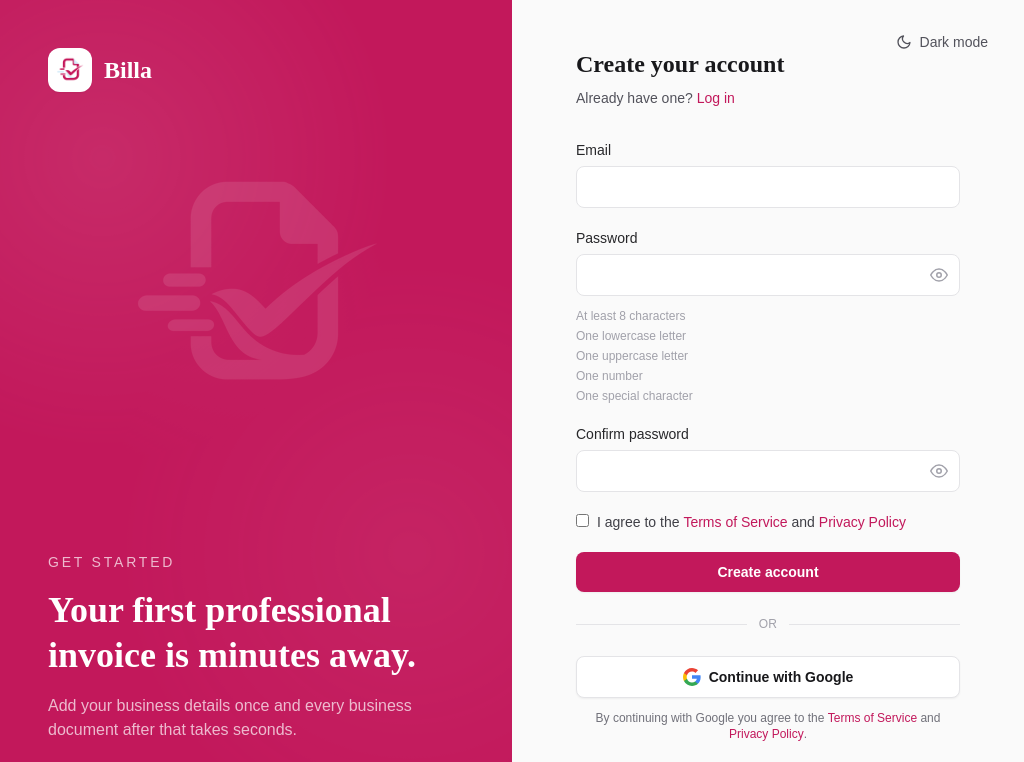
Test: Register › tells the caller to wait instead of the generic error, when rate-limited
Step 1. Type "owner@example.com" into the field labelled "Email" → (768, 187), box [576,166,960,208]
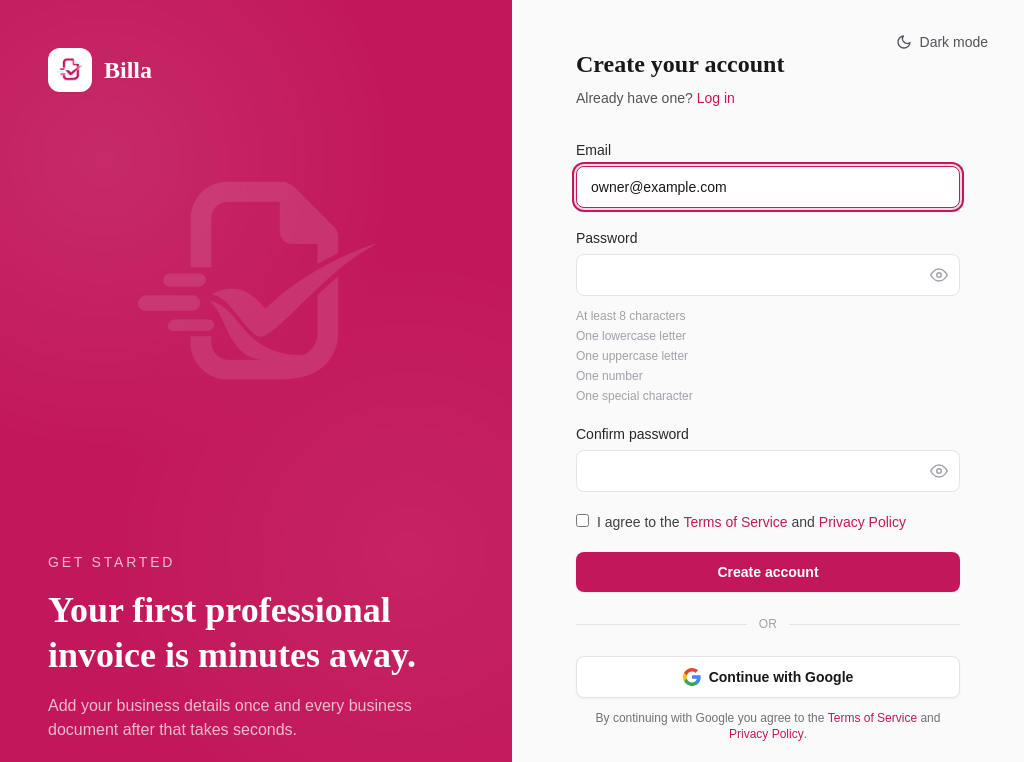
Step 2. Type "Supersecret1!" into the password field labelled "Password" → (768, 275), box [576,254,960,296]
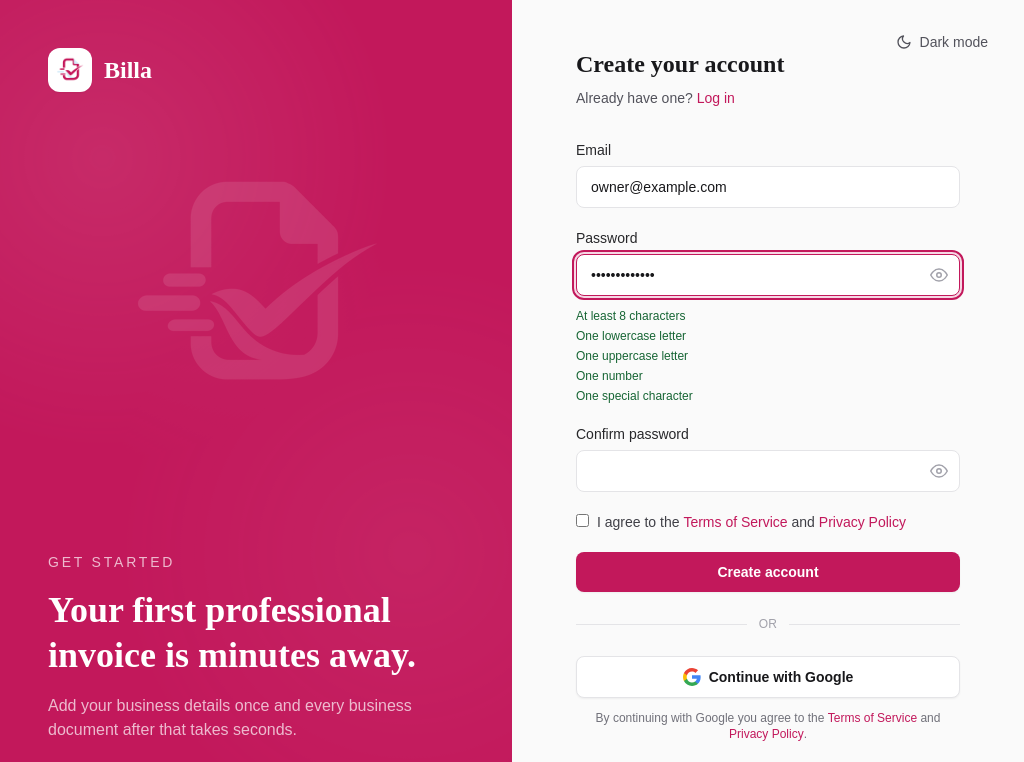
Step 3. Type "Supersecret1!" into the password field labelled "Confirm password" → (768, 471), box [576,450,960,492]
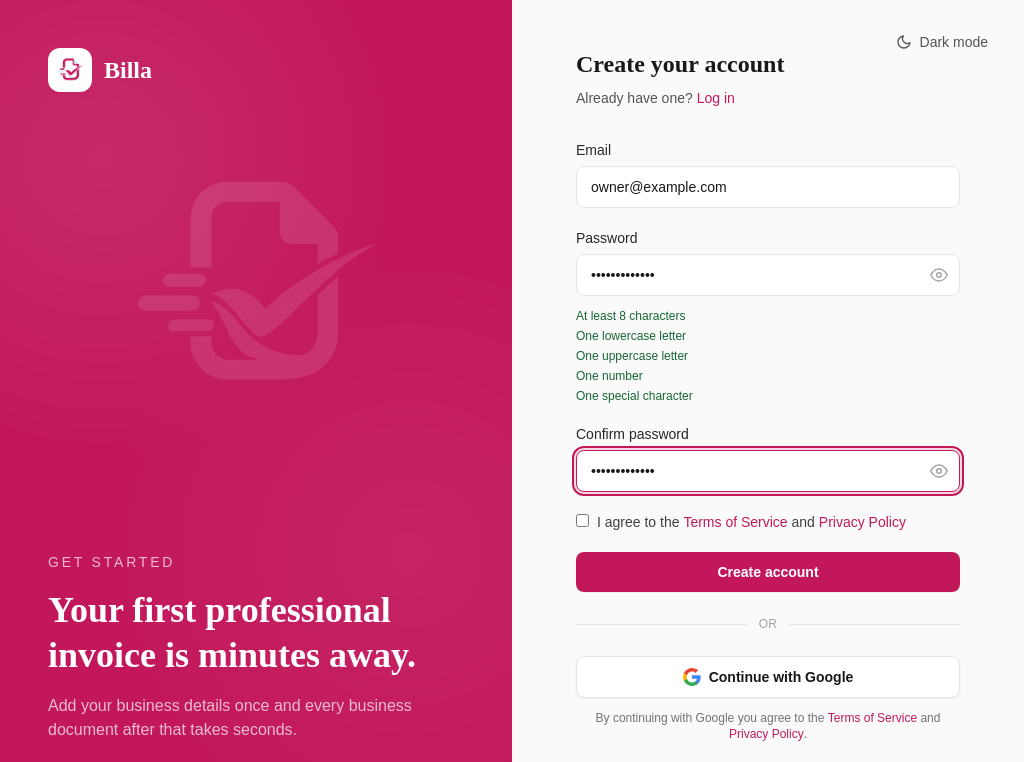
Step 4. Click the checkbox labelled "I agree to the Terms of Service and Privacy Policy" → (582, 520), box [576,514,589,527]
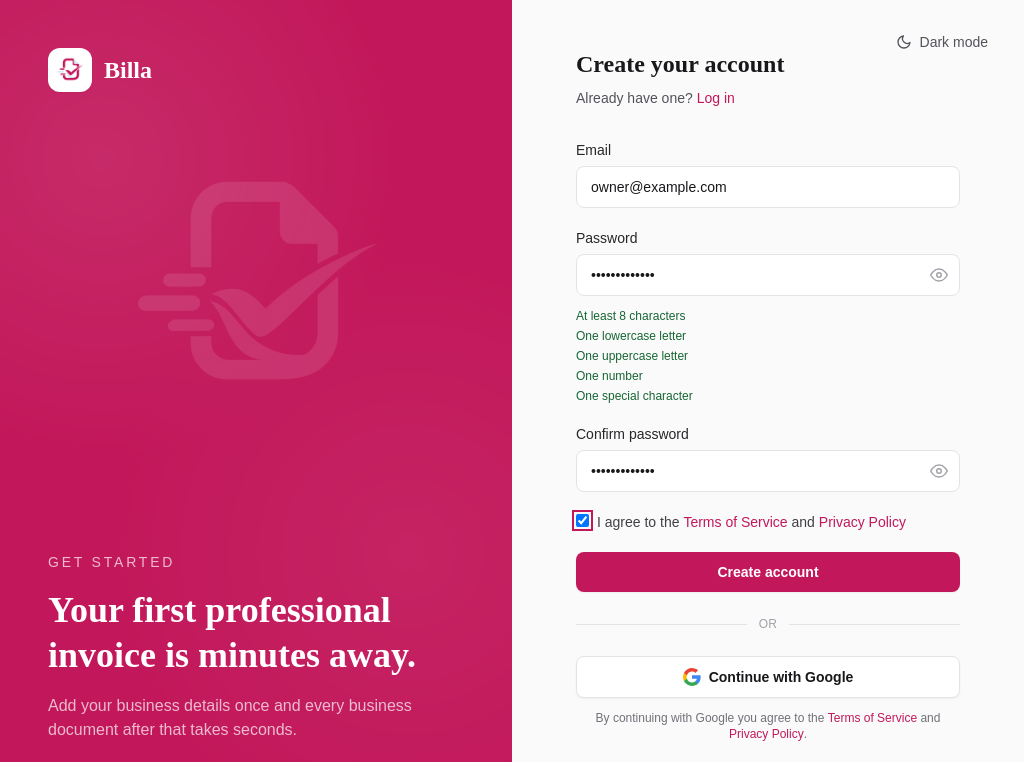
Step 5. Click the button "Create account" → (768, 572), box [576,552,960,592]
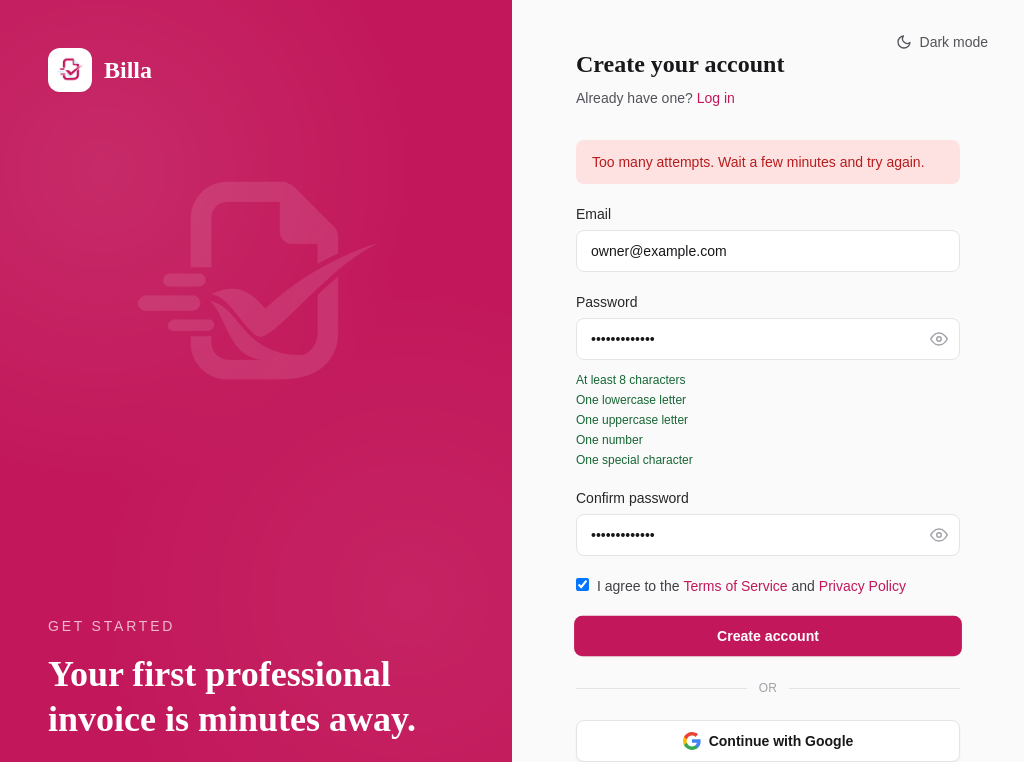
Result: the message shows "Too many attempts" at [592,154,924,170]
